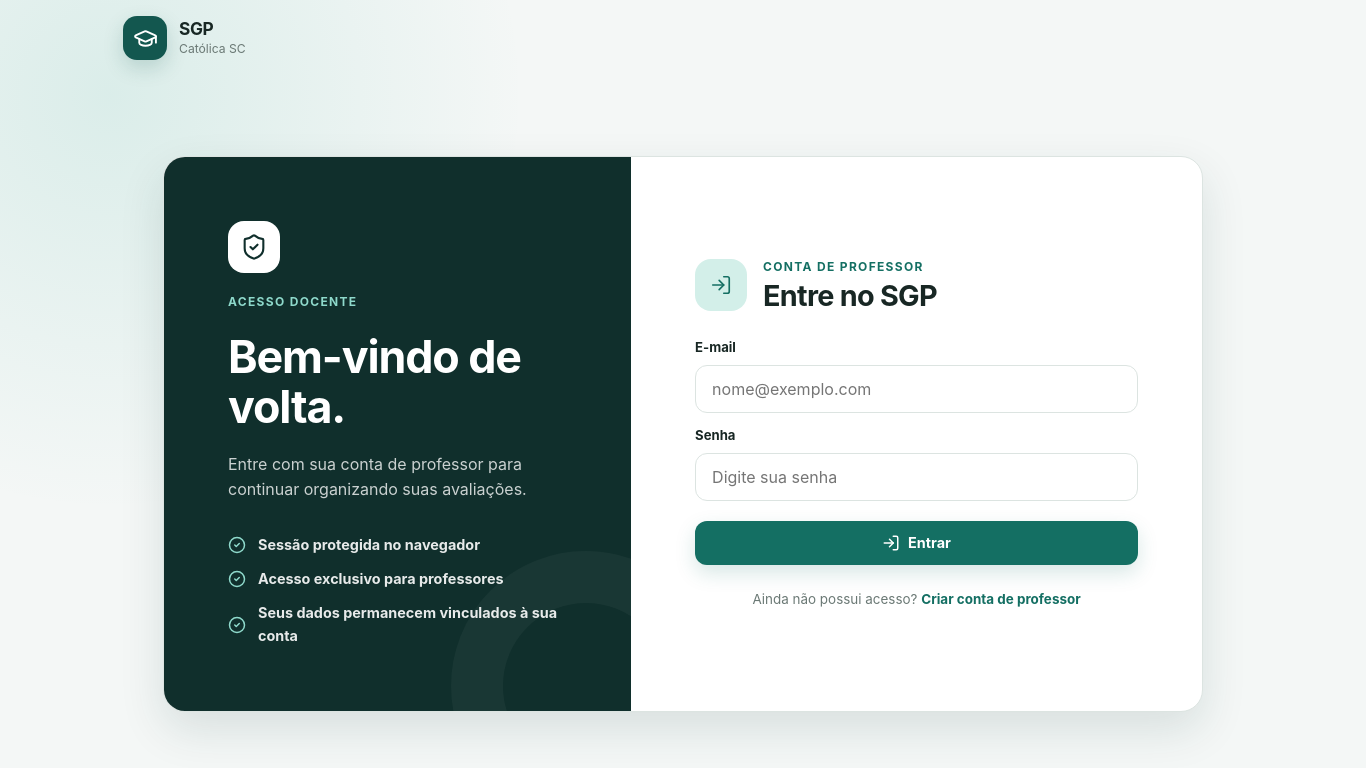
Test: tela de login de professor › mostra a falha de credencial e libera nova tentativa
Type " maria@example.com " into the field with id "login-email" at (917, 389), box left=695, top=365, right=1138, bottom=413
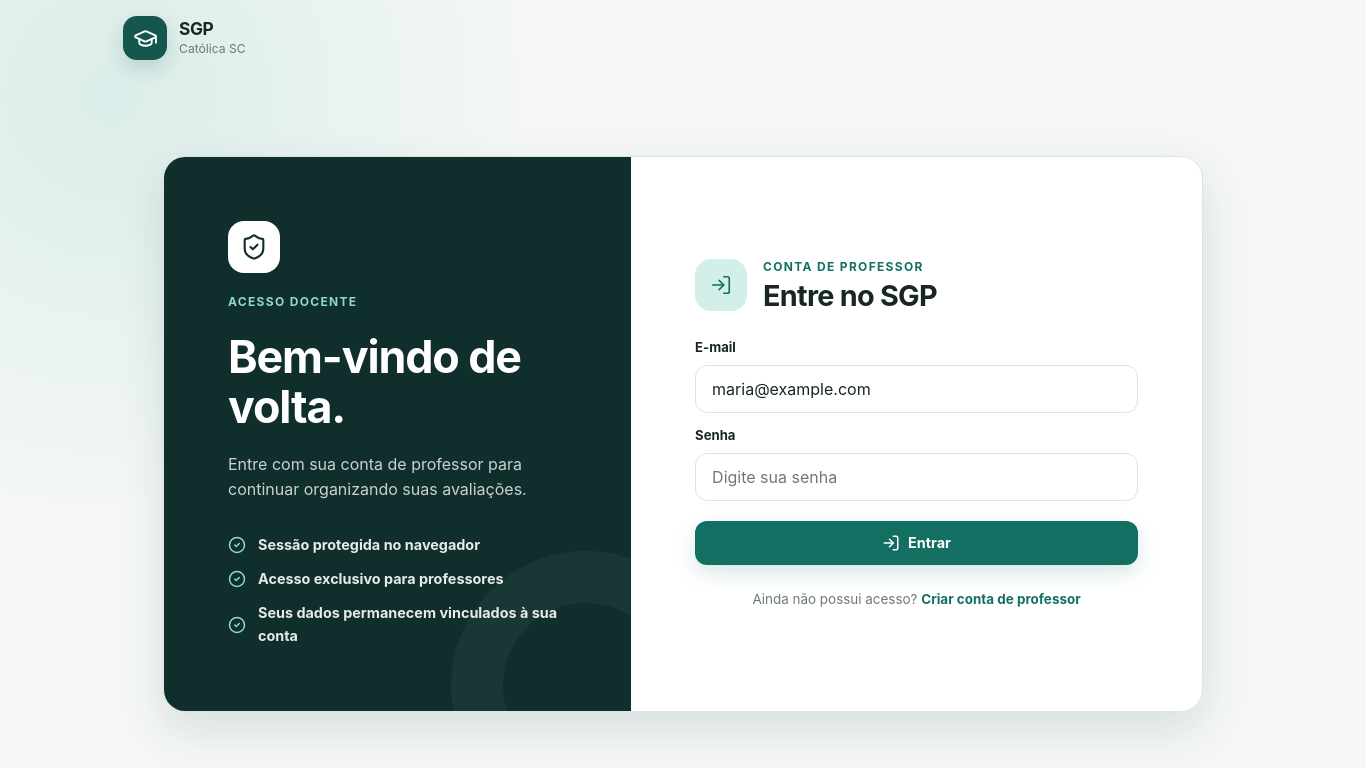
Type "Senha atual" into the password field with id "login-password" at (917, 477), box left=695, top=453, right=1138, bottom=501
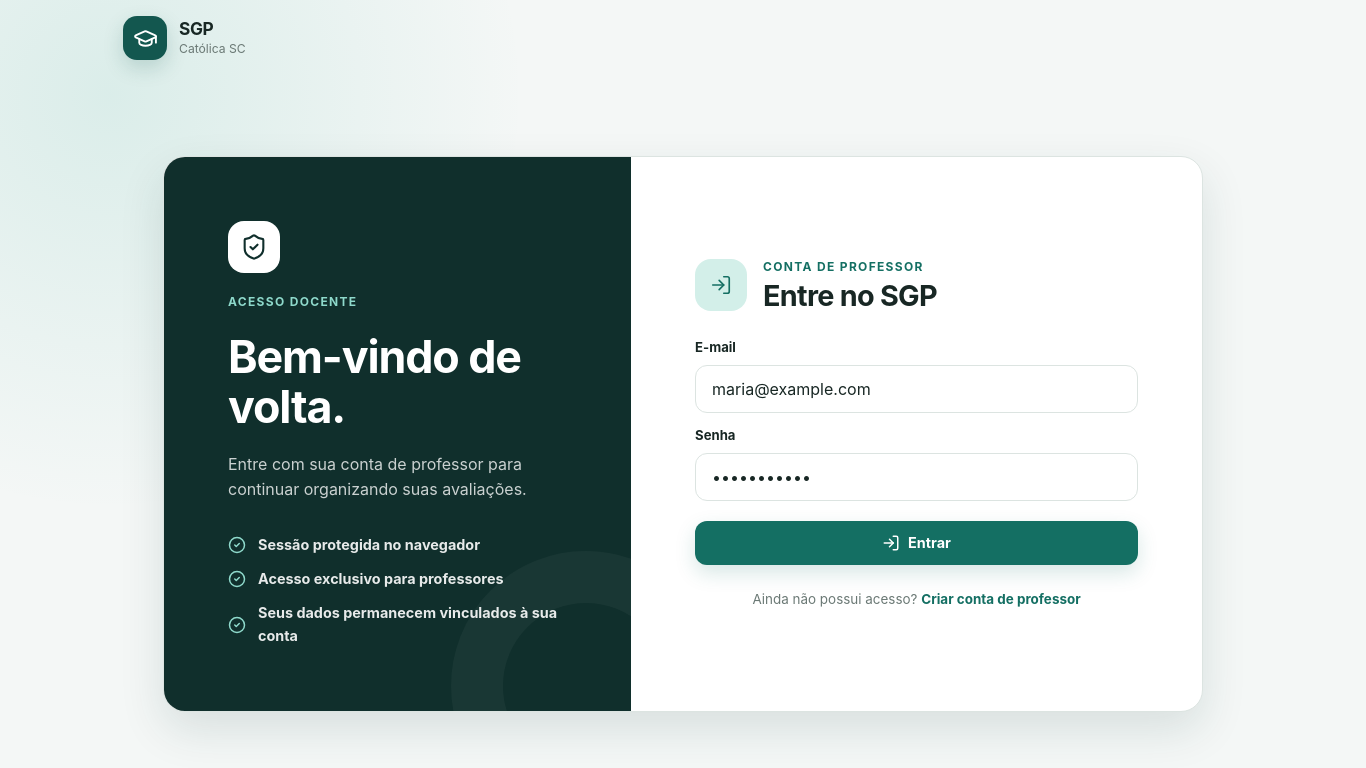
Submit the form, box left=695, top=337, right=1138, bottom=565
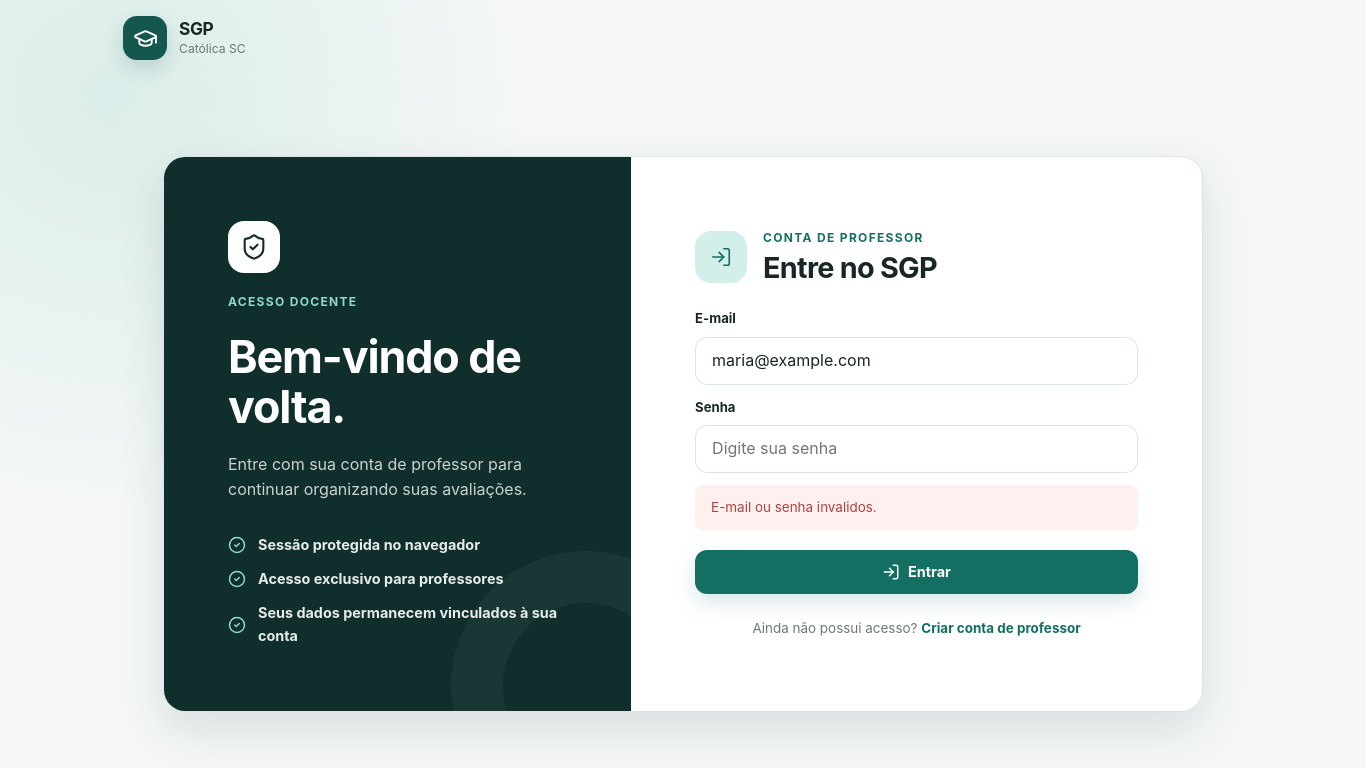
Check: the submit button is enabled, box left=695, top=550, right=1138, bottom=594
Check: the message "E-mail ou senha invalidos." is shown, box left=695, top=485, right=1138, bottom=530
Check: the password field with id "login-password" is empty, box left=695, top=425, right=1138, bottom=473
